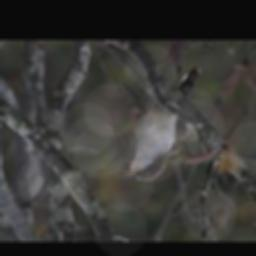Cuckoo: (117, 65, 203, 181)
